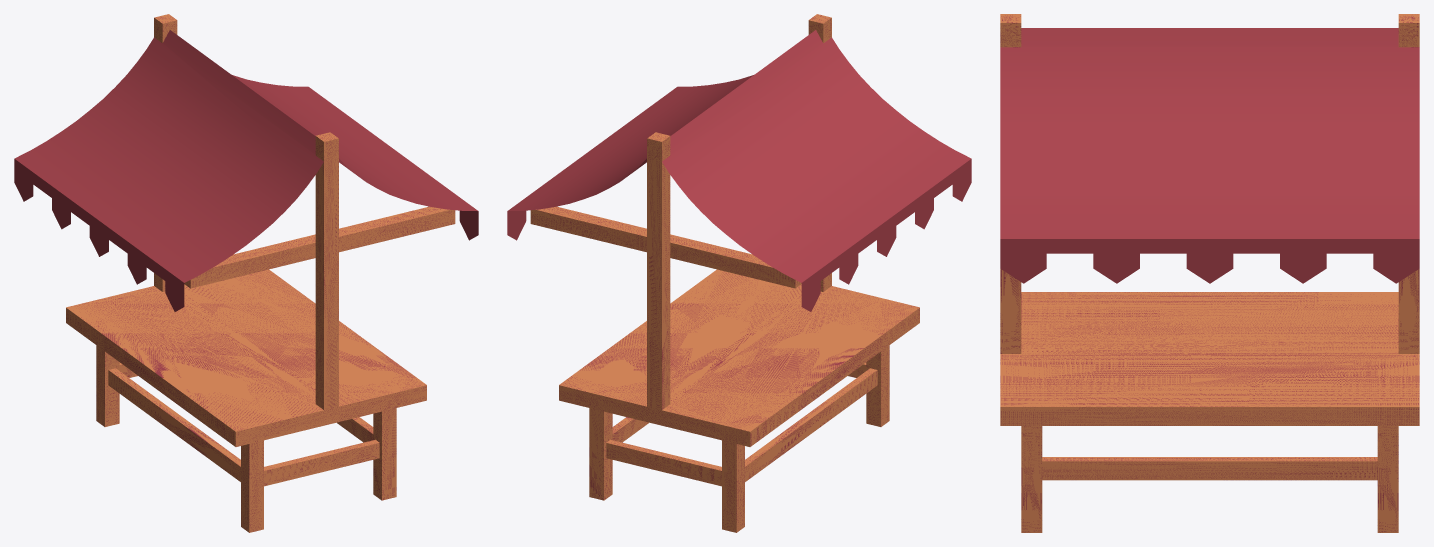
Rendered from stallRed.obj.
3 views of the same model, side by side, from view 1: azimuth 30°, elevation 25°; view 2: azimuth 150°, elevation 25°; view 3: azimuth 270°, elevation 25° (orthographic). The views are drawn at different scales.
Parts seen in each view (by area): view 1: stallRed; view 2: stallRed; view 3: stallRed.
Part boxes in pixels (x1=…): stallRed: x1=14, y1=14, x2=478, y2=532; stallRed: x1=507, y1=14, x2=971, y2=532; stallRed: x1=1000, y1=14, x2=1419, y2=532.
Bounding box in the file's own units: 1 × 1.24 × 1.
